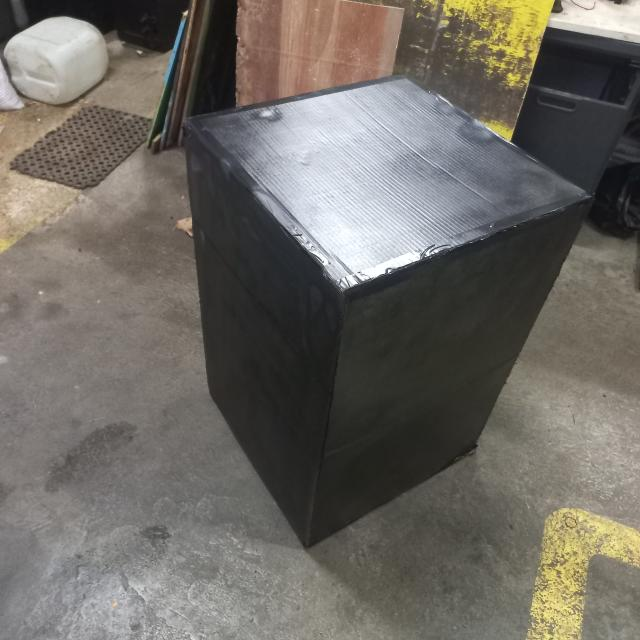obstacle: (181, 71, 594, 552)
